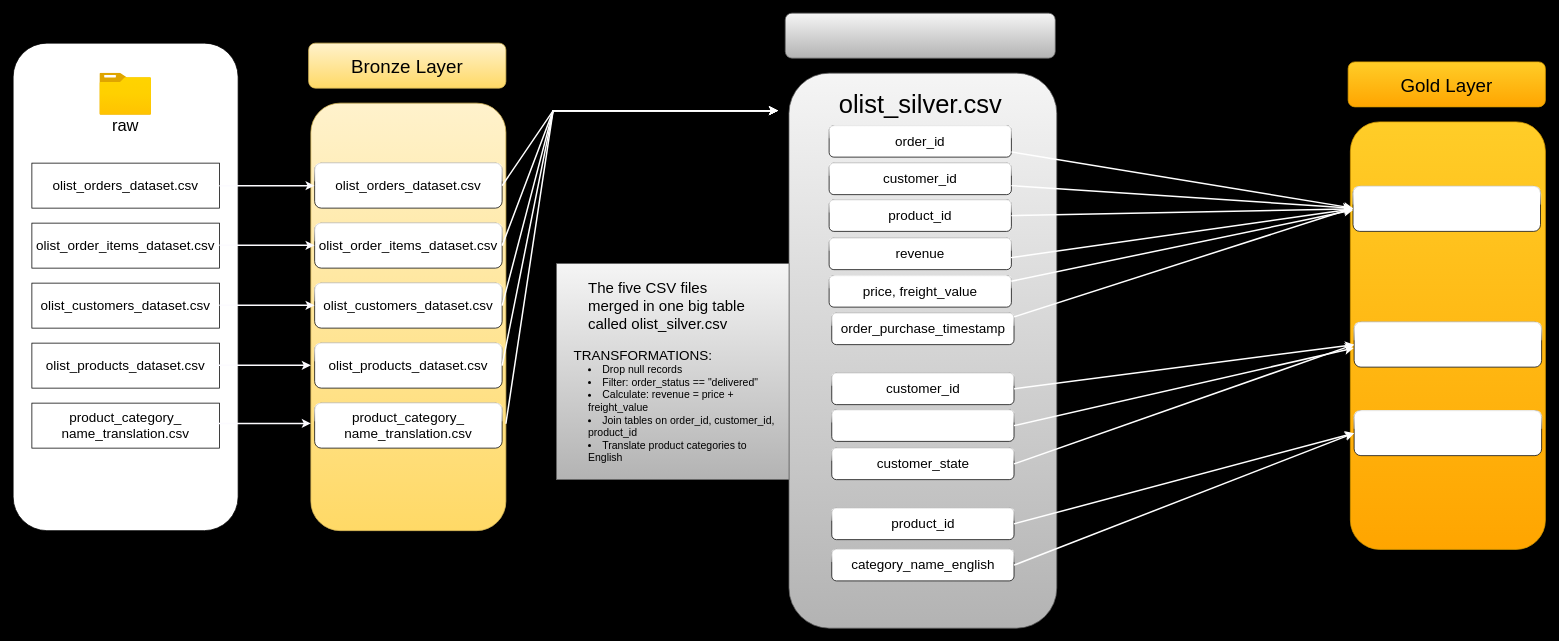
The diagram is 1559 pixels wide and 641 high, and some of its shapes have lost their labels. The centre of each missing label's shape, as x and y in pixels:
customer_city: (922,425)
dim_customer: (1447,344)
dim_product: (1447,433)
fct_orders: (1446,208)
Silver Layer: (919,35)
